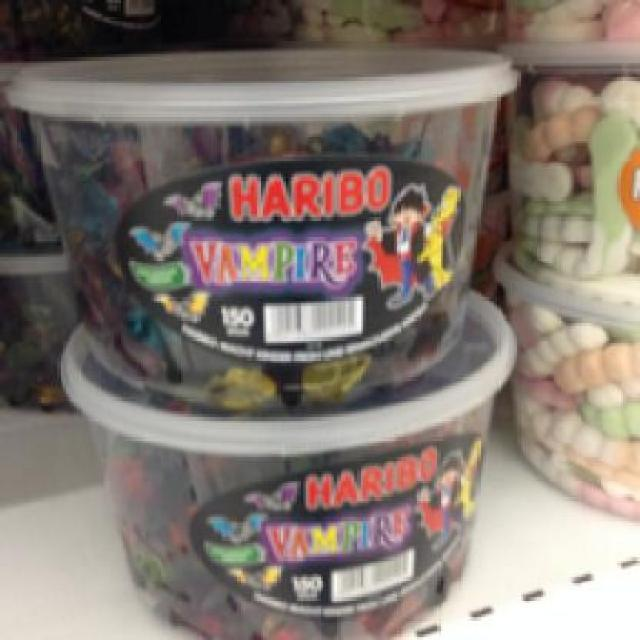Candy: (5, 57, 518, 400), (51, 357, 524, 637)
